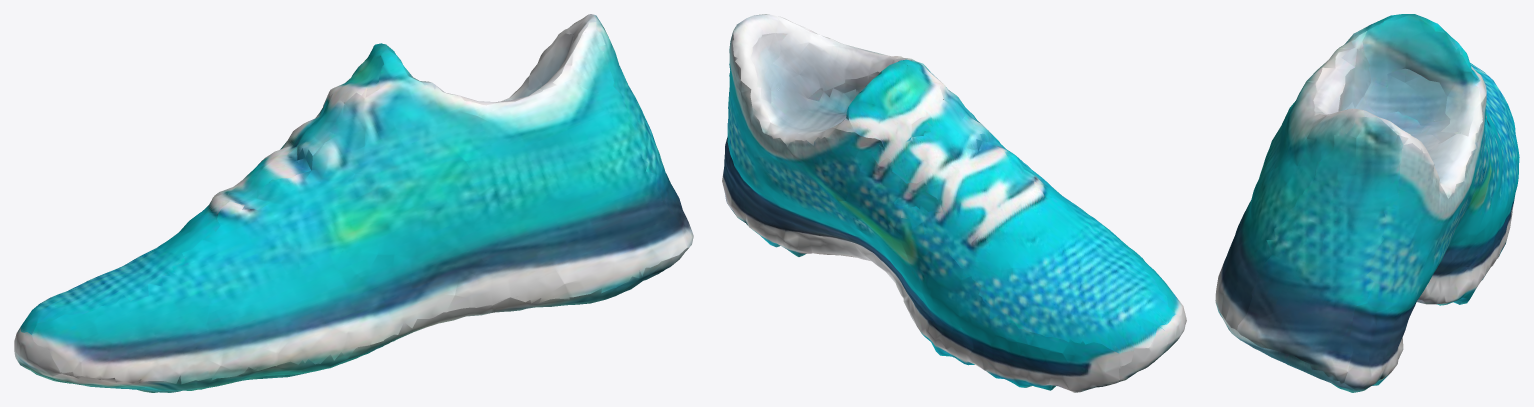
3 renders of one model, left to right at view 1: azimuth 30°, elevation 25°; view 2: azimuth 150°, elevation 25°; view 3: azimuth 270°, elevation 25°, orthographic. The views are drawn at different scales.
Visible parts, largest first — view 1: world; view 2: world; view 3: world.
Part boxes in pixels (x1,y1,x2,y2): world: (14,14,693,392); world: (722,14,1186,392); world: (1215,14,1519,392).
Bounding box in the file's own units: 0.9569 × 0.4838 × 0.4011.
1 material, 1 textured.
